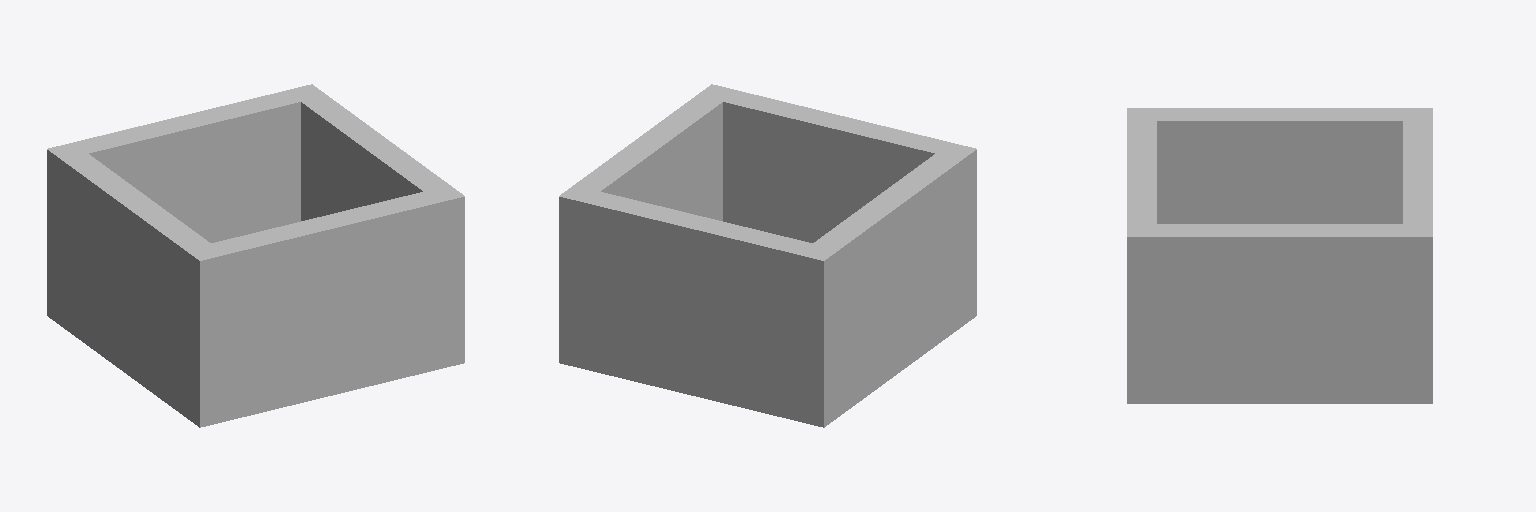
File: strawChestBuild1.obj
3 views of the same model, side by side, from view 1: azimuth 30°, elevation 25°; view 2: azimuth 150°, elevation 25°; view 3: azimuth 270°, elevation 25° (orthographic).
Parts seen in each view (by area): view 1: westFace, northFace, topFace; view 2: eastFace, northFace, topFace; view 3: southFace, topFace.
Boxes of the visible parts, box(x1,y1,x2,y2) form: westFace: box(89, 102, 464, 427); northFace: box(47, 102, 422, 427); topFace: box(47, 84, 464, 260); eastFace: box(559, 102, 934, 427); northFace: box(601, 102, 976, 427); topFace: box(559, 84, 976, 260); southFace: box(1127, 121, 1432, 403); topFace: box(1127, 108, 1432, 236).
Size of the model in its own units: 0.625 by 0.375 by 0.625.